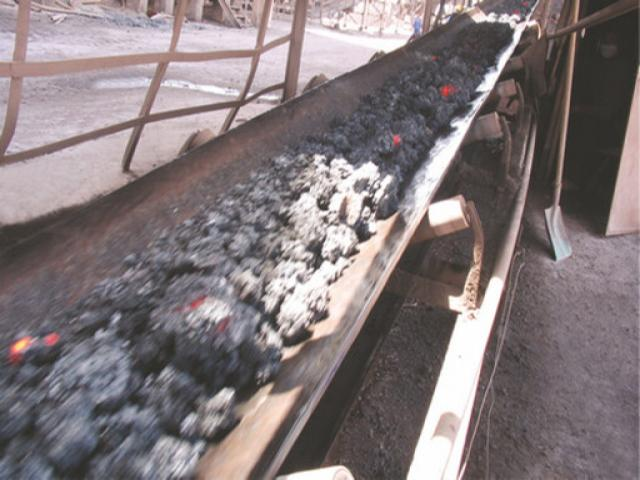conveyor: (0, 0, 554, 479)
